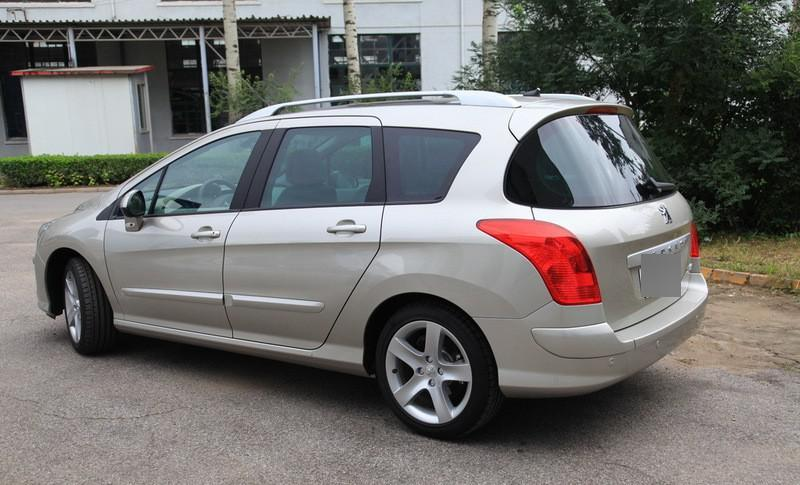Wagon: (32, 88, 711, 443)
